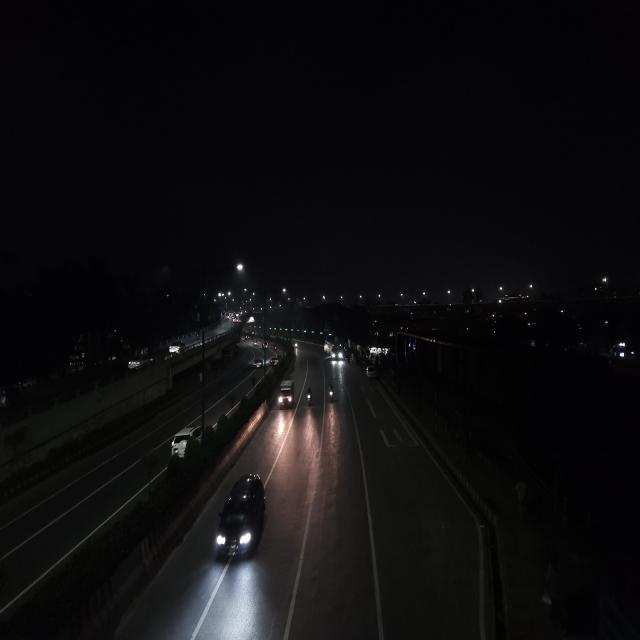bus: (331, 340, 344, 363)
car: (211, 469, 269, 568), (168, 428, 196, 461), (126, 356, 144, 372), (167, 341, 184, 357), (365, 364, 379, 381), (253, 356, 264, 368)
motorcycle: (305, 384, 315, 408), (327, 384, 336, 405)
truck: (276, 378, 296, 411)
